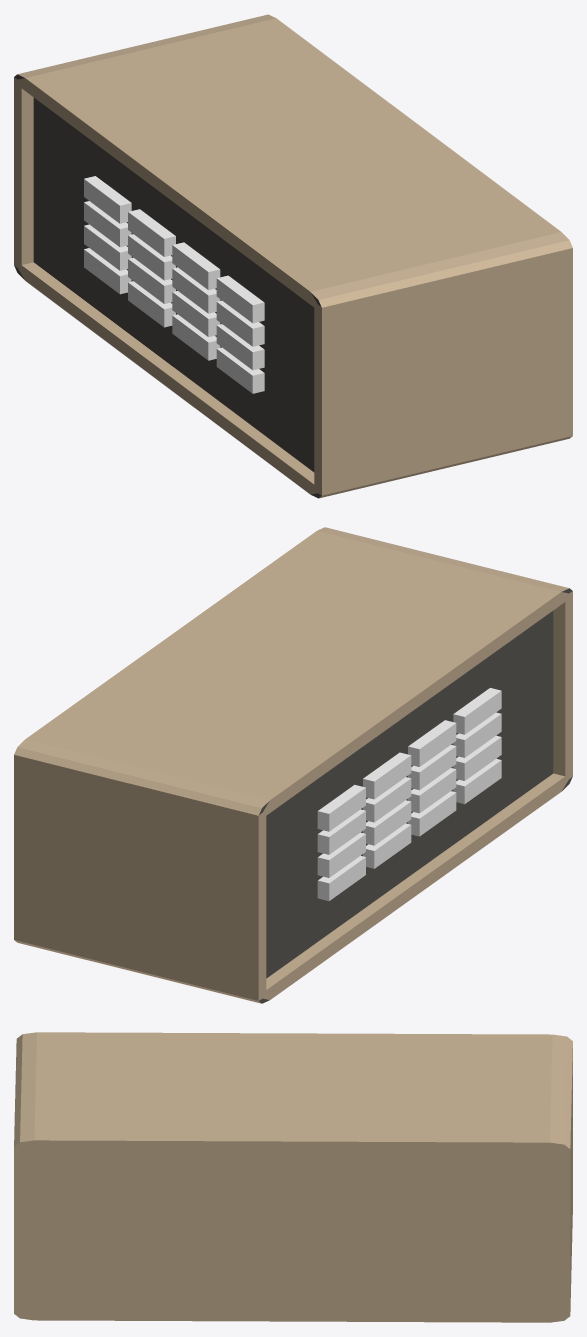
Rendered from Button_Console.glb.
3 renders of one model, top to bottom at view 1: azimuth 30°, elevation 25°; view 2: azimuth 150°, elevation 25°; view 3: azimuth 270°, elevation 25°, orthographic. The views are drawn at different scales.
Visible parts, largest first — view 1: ButtonConsole; view 2: ButtonConsole; view 3: ButtonConsole.
Part boxes in pixels (x1,y1,x2,y2): ButtonConsole: (14,14,572,498); ButtonConsole: (14,527,572,1003); ButtonConsole: (14,1032,572,1322).
Size of the model in its own units: 0.6569 by 0.4989 by 1.4.
Materials: 1 (1 with a texture image).
